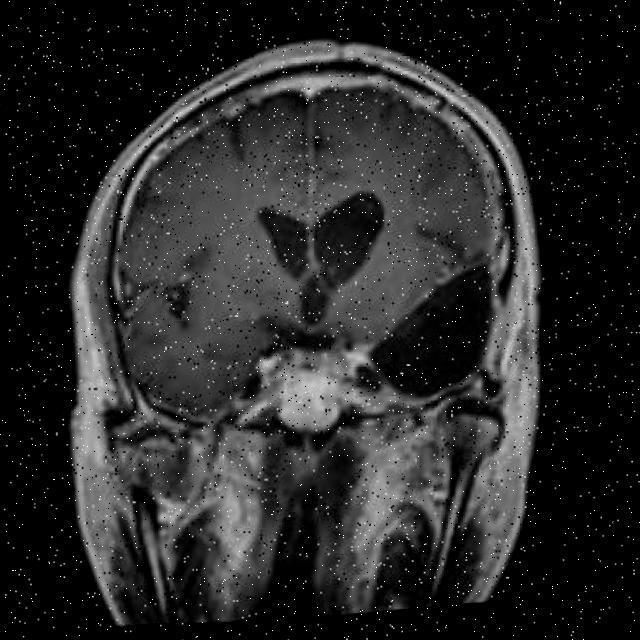EMCI: (302, 280, 534, 424)
